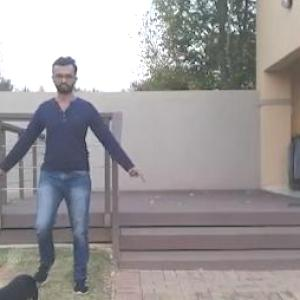land: (4, 60, 134, 287)
